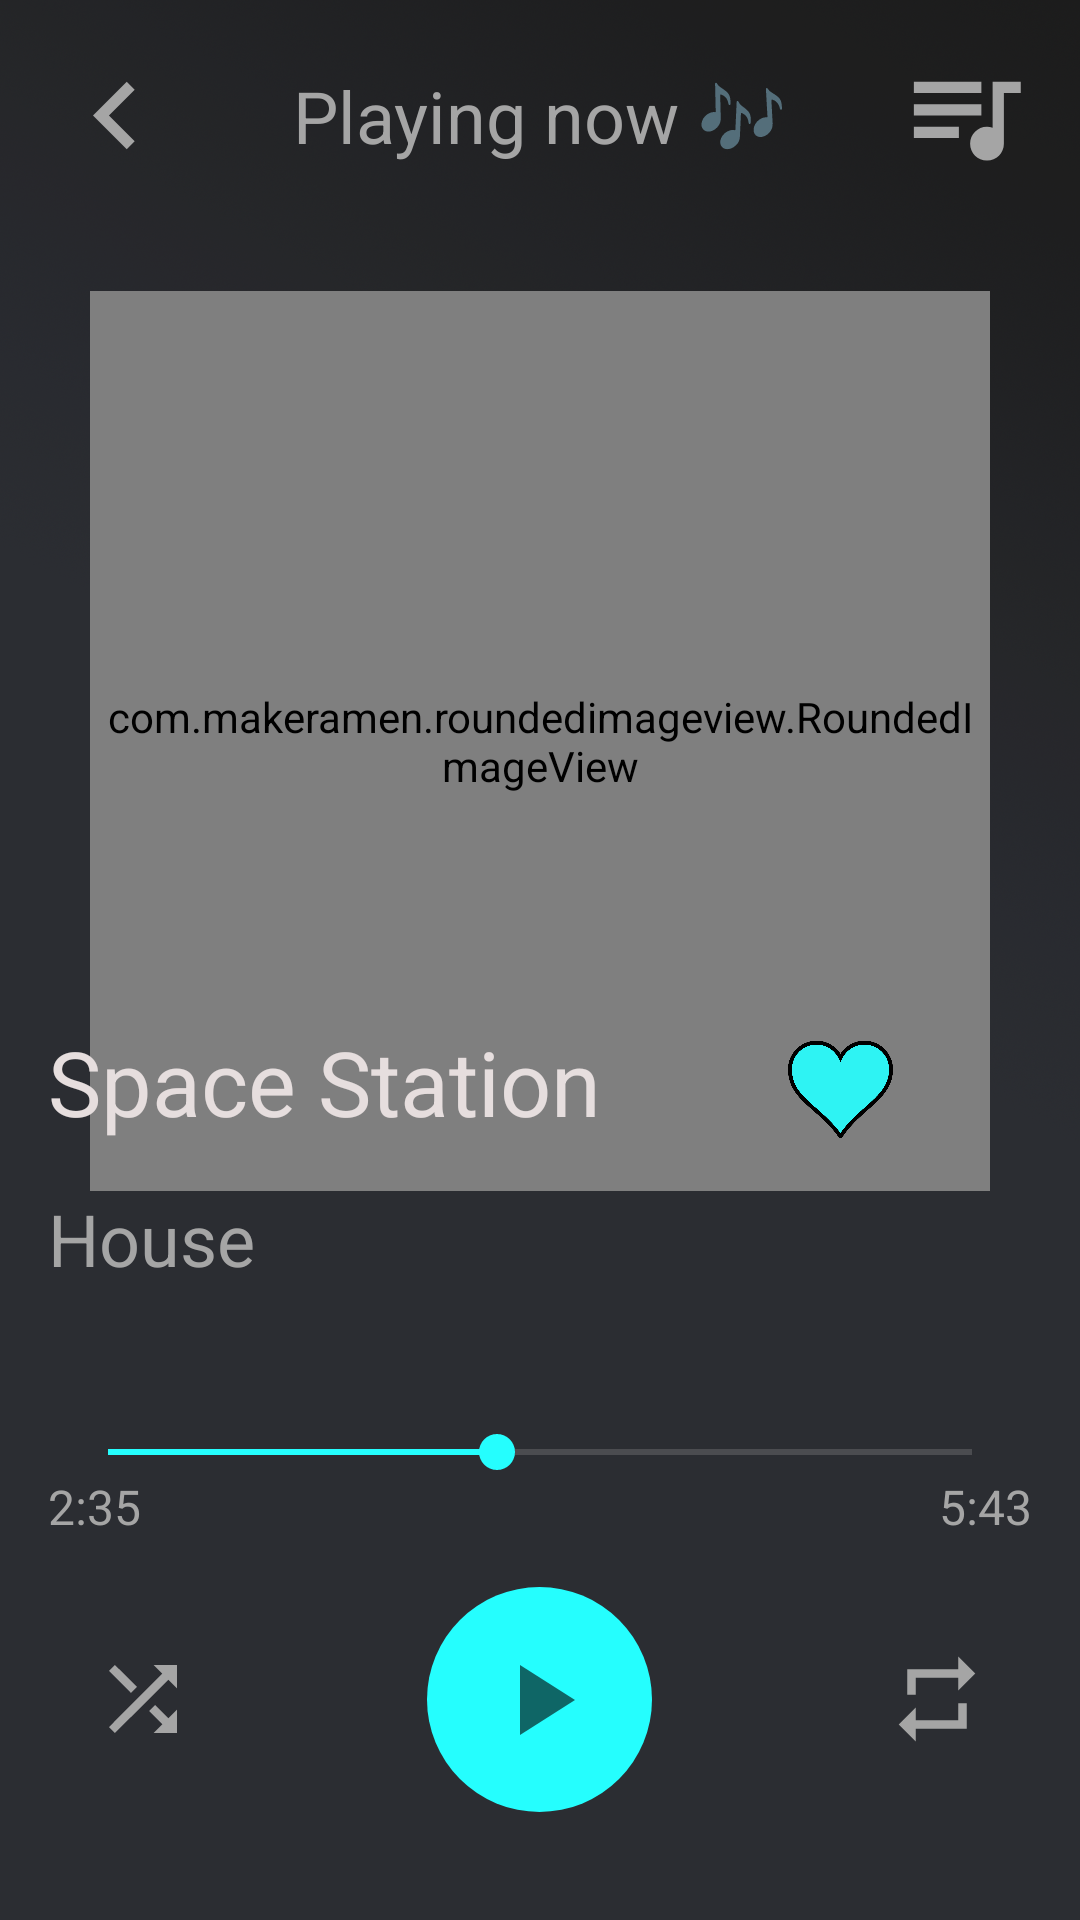

Point at icon controls on the screen. Image size 1080x1920, points as point (x, y).
chevron left: point (114, 115)
hearton: point (840, 1089)
play arrow: point (539, 1699)
queue music: point (967, 121)
repeat: point (937, 1699)
shuffle: point (143, 1699)
